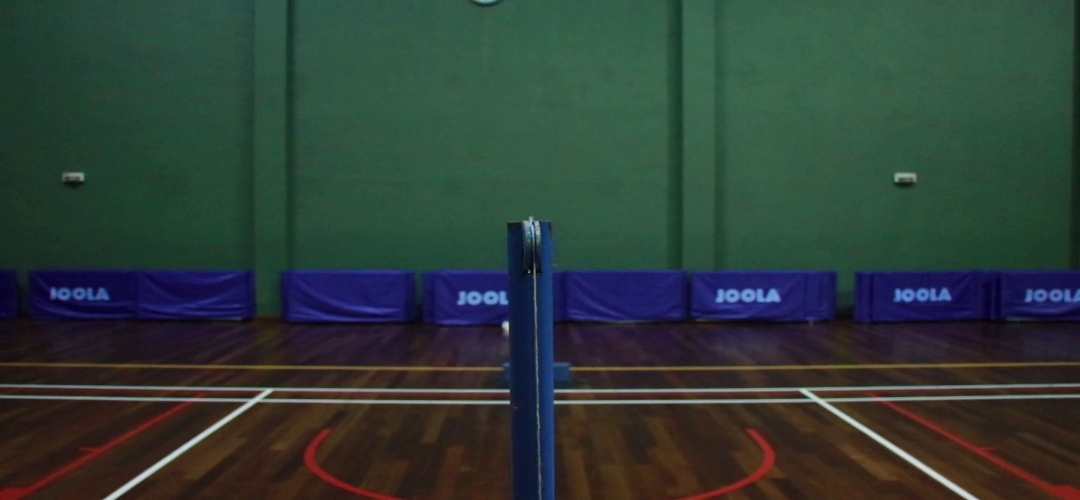c1: (239, 395, 274, 411)
c2: (797, 394, 841, 411)
net_level: (507, 222, 553, 283)
